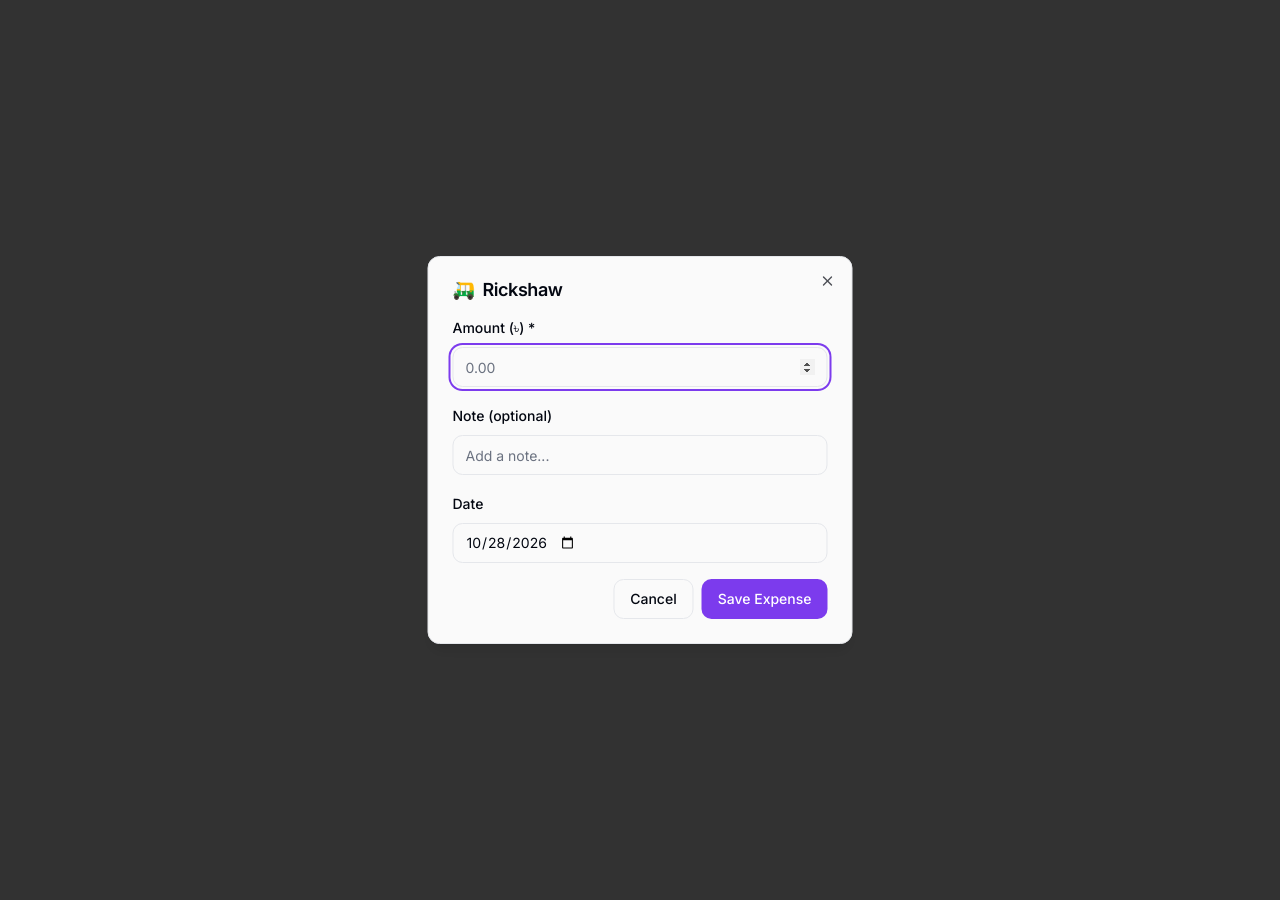
Test: ExpenseFormDialog › checks the amount with the backend's rules before sending
Click the button "Save Expense" at [765, 599], box top-left (702, 579), bottom-right (828, 619)
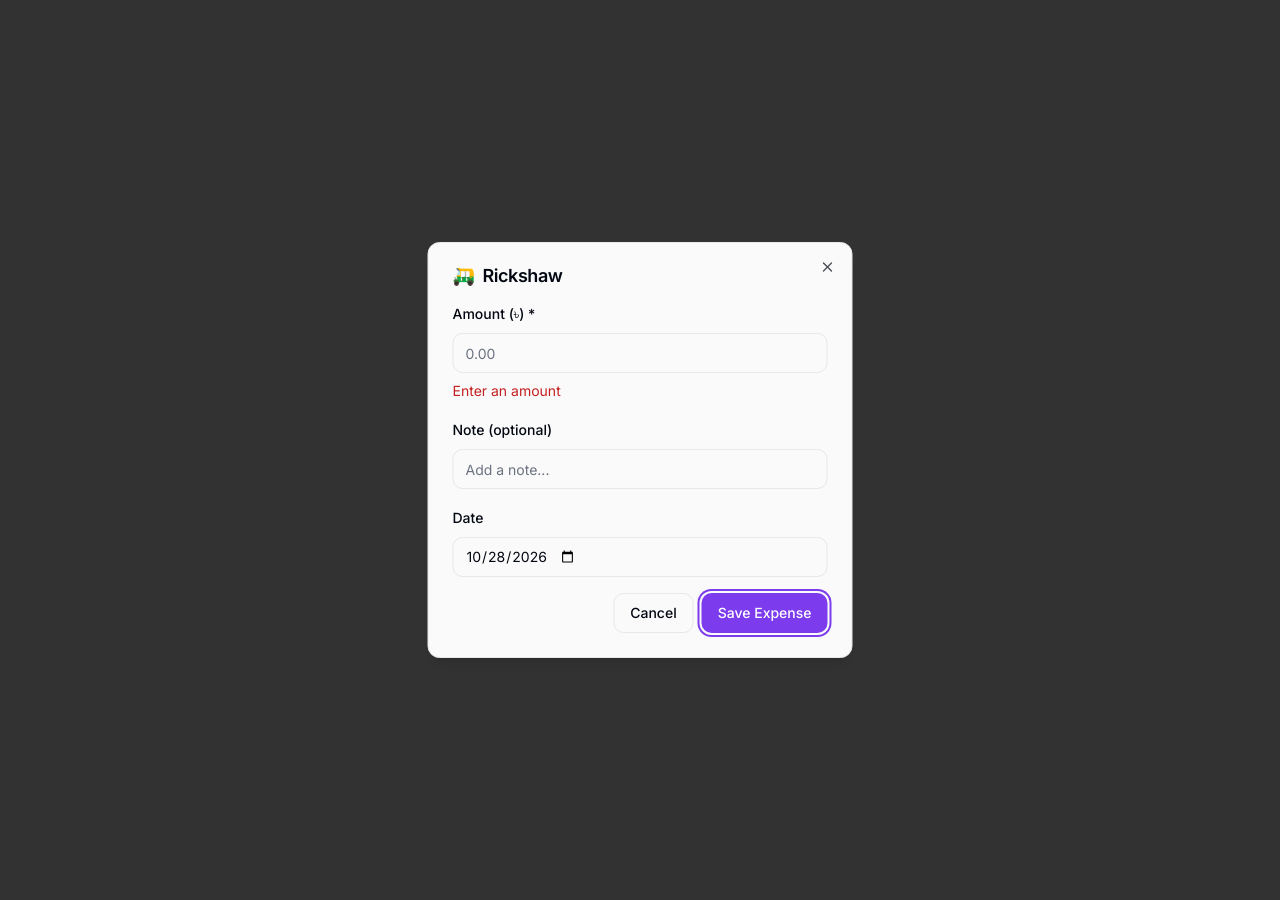
Result: the text "Enter an amount" is shown at top-left (452, 382), bottom-right (561, 399)
Type "12.345" into the number field labelled "Amount (৳) *" at [640, 353], box top-left (452, 333), bottom-right (828, 373)
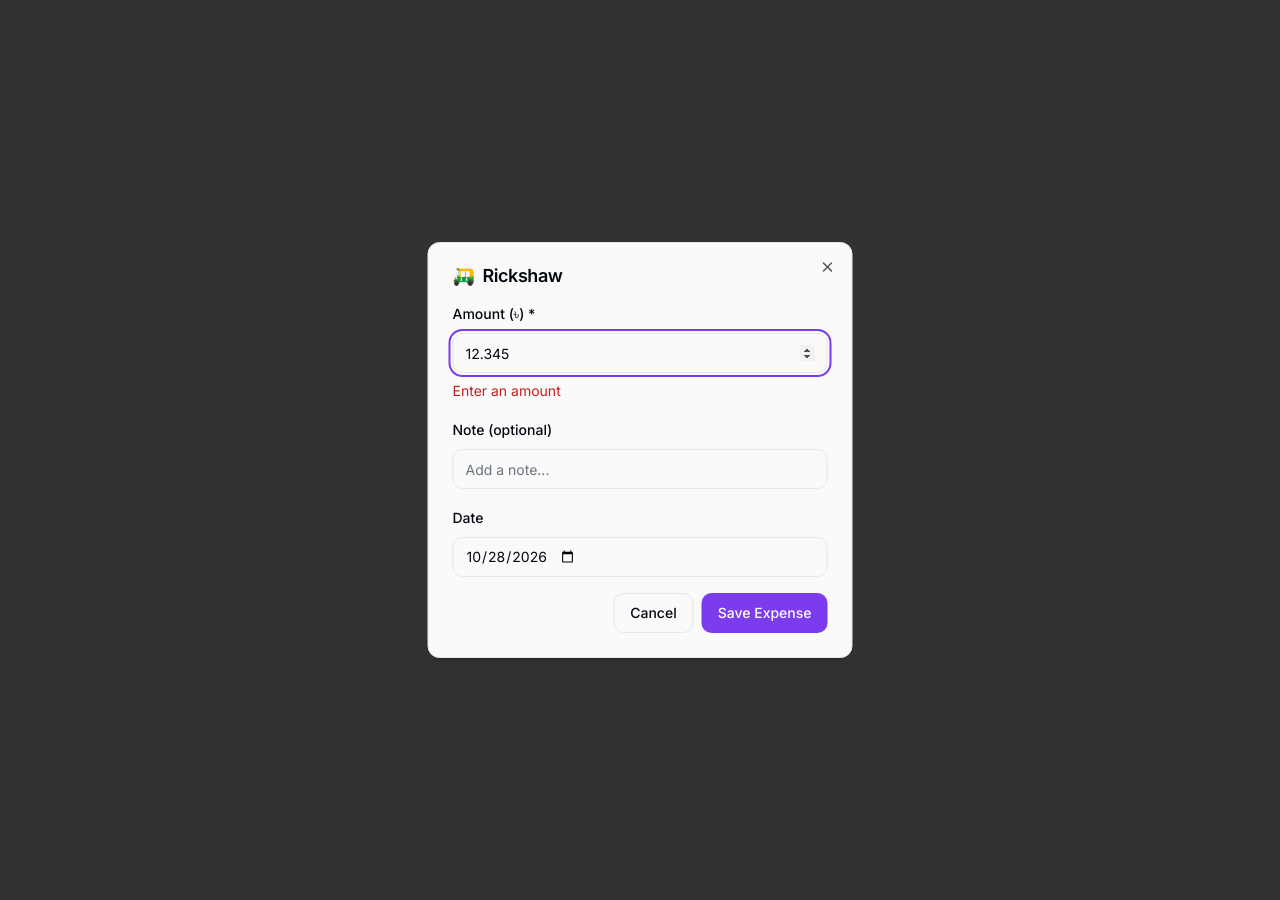
Click the button "Save Expense" at [765, 613], box top-left (702, 593), bottom-right (828, 633)
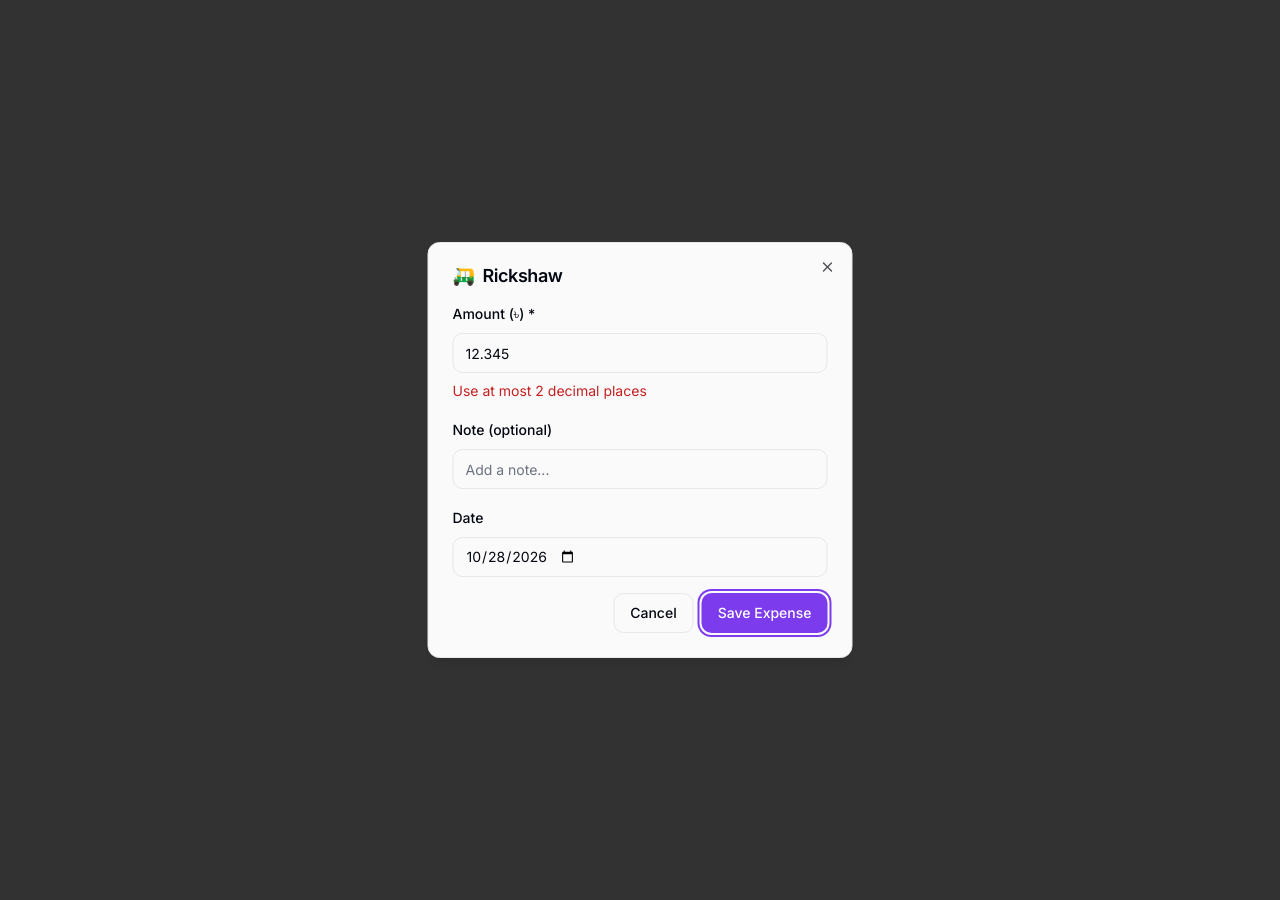
Result: the text "Use at most 2 decimal places" is shown at top-left (452, 382), bottom-right (647, 399)
